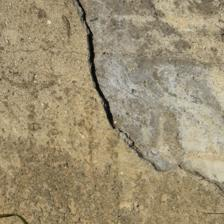Crack: (38, 2, 183, 190)
